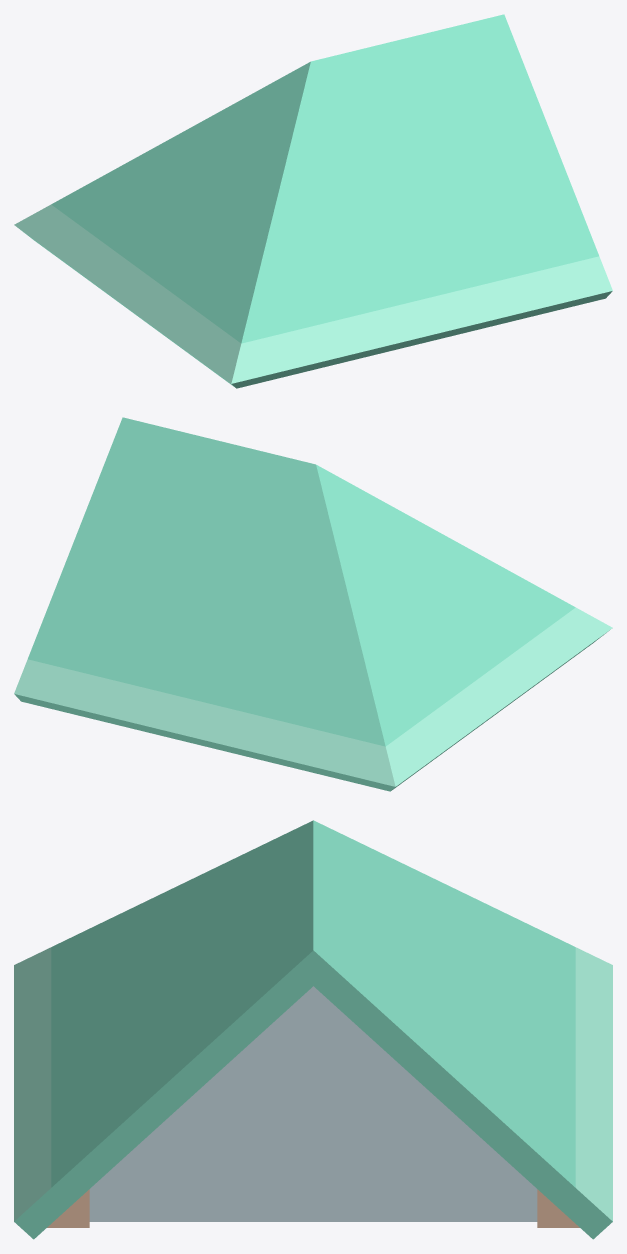
3 views of the same model, one above another, from view 1: azimuth 30°, elevation 25°; view 2: azimuth 150°, elevation 25°; view 3: azimuth 270°, elevation 25° (orthographic). The views are drawn at different scales.
Parts seen in each view (by area): view 1: roofGableEnd; view 2: roofGableEnd; view 3: roofGableEnd.
Part boxes in pixels (bbox=[...]): roofGableEnd: bbox=[14, 14, 612, 388]; roofGableEnd: bbox=[14, 417, 612, 791]; roofGableEnd: bbox=[14, 820, 612, 1239].
Size of the model in its own units: 1.09 by 0.5707 by 1.07.
